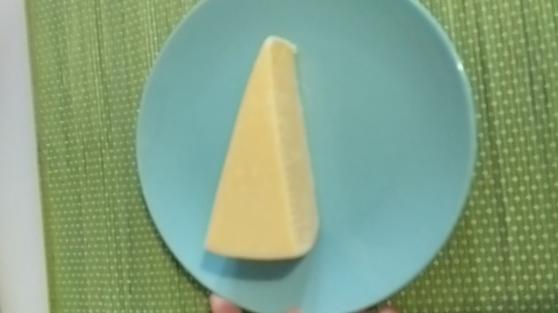cheese: (200, 35, 324, 262)
